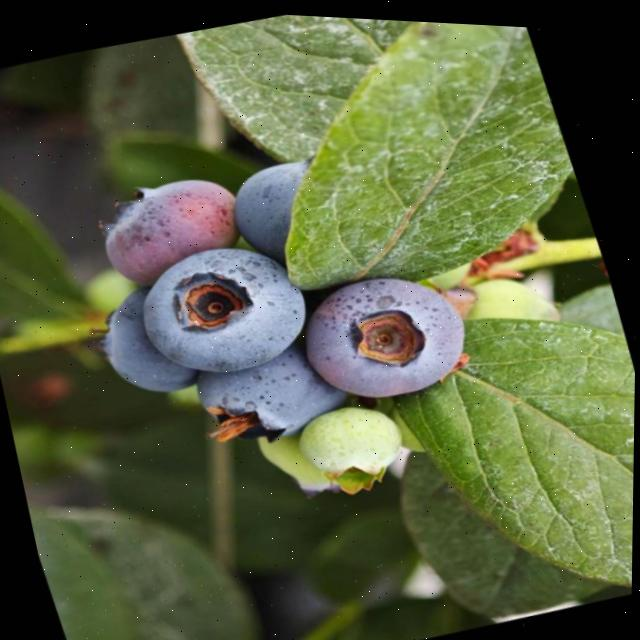RipeBlueBerry: (127, 220, 328, 396), (295, 247, 489, 418)
Semi-RipeBlueBerry: (90, 155, 265, 302)
UnripeBlueBerry: (292, 387, 424, 506)
